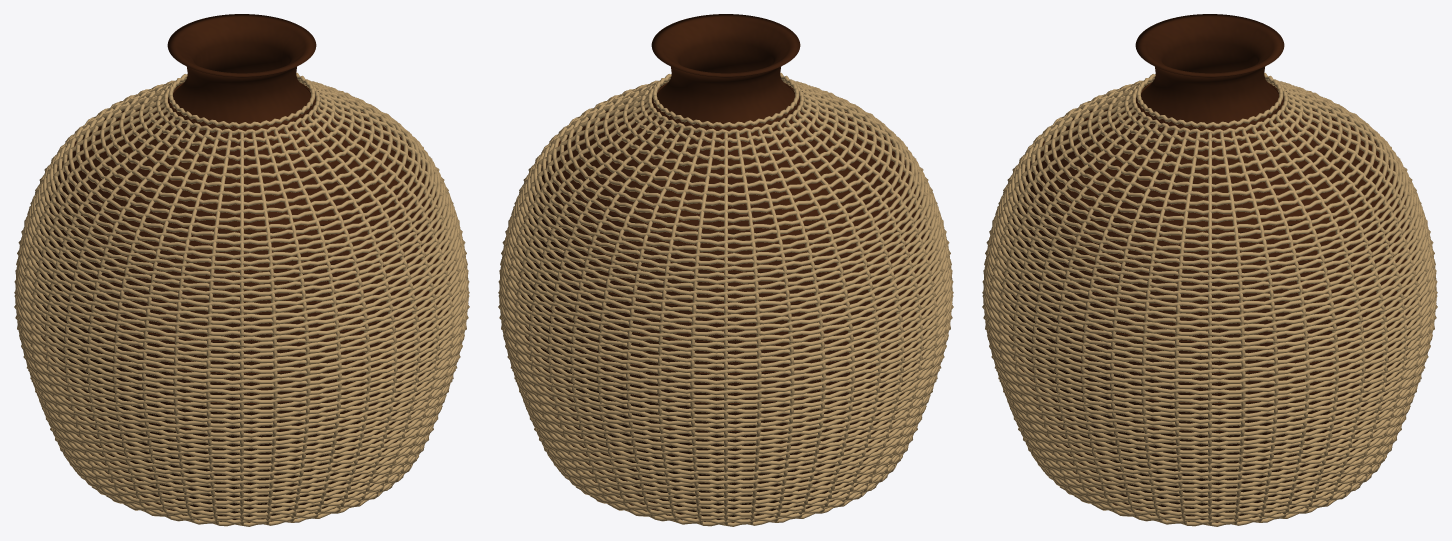
Rendered from bcm-1102.glb.
The picture shows the model from 3 angles, left to right: view 1: azimuth 30°, elevation 25°; view 2: azimuth 150°, elevation 25°; view 3: azimuth 270°, elevation 25°; orthographic projection.
Parts seen in each view (by area): view 1: Woven horizontal straw, Continuous hollow vessel with formed lip; view 2: Woven horizontal straw, Continuous hollow vessel with formed lip; view 3: Woven horizontal straw, Continuous hollow vessel with formed lip.
Part boxes in pixels (left/top/right/bottom): Woven horizontal straw: left=14, top=72, right=469, bottom=526; Continuous hollow vessel with formed lip: left=29, top=14, right=453, bottom=522; Woven horizontal straw: left=498, top=72, right=953, bottom=526; Continuous hollow vessel with formed lip: left=513, top=14, right=937, bottom=522; Woven horizontal straw: left=982, top=72, right=1437, bottom=526; Continuous hollow vessel with formed lip: left=997, top=14, right=1421, bottom=522.
Size of the model in its own units: 0.9837 by 1 by 0.9812.
